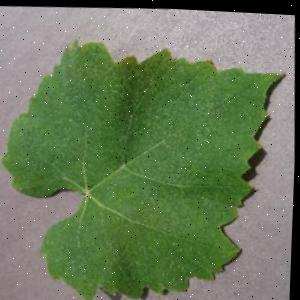Folha: (0, 26, 297, 300)
